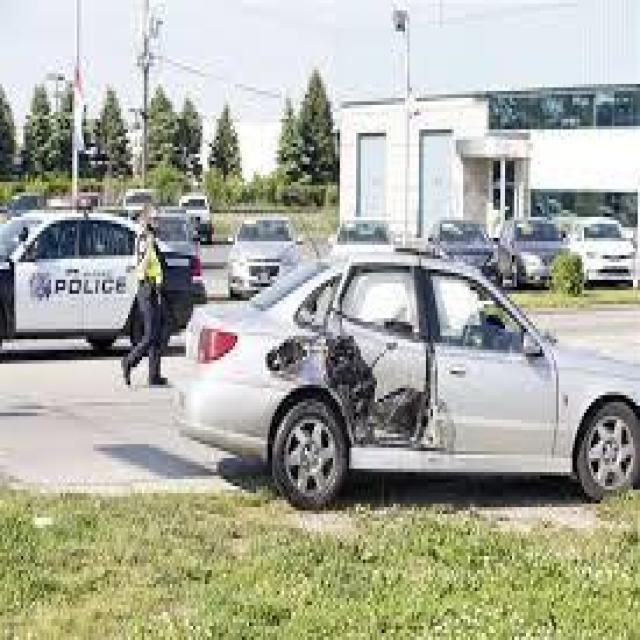damaged: (263, 262, 456, 462)
